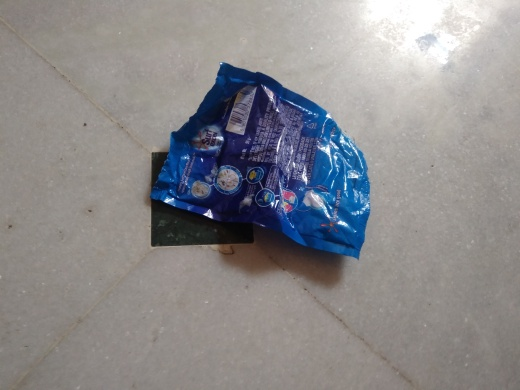surf: (144, 53, 375, 267)
